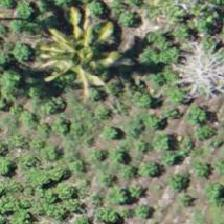coconut_tree: (33, 4, 123, 94)
